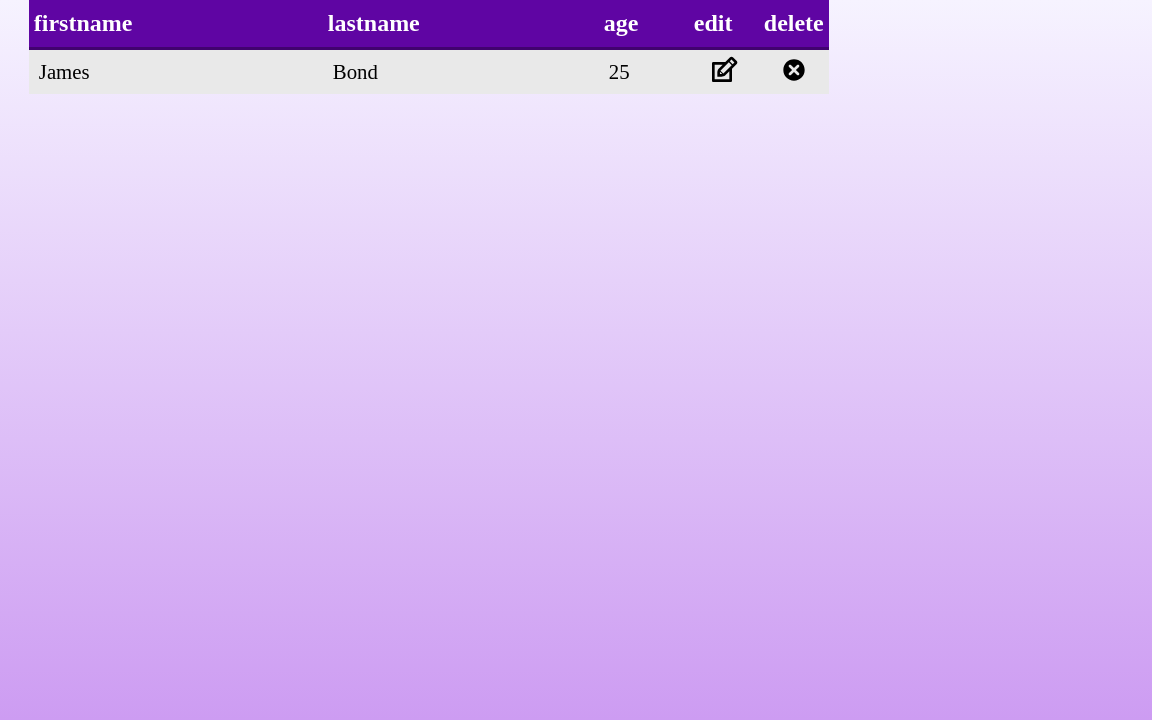
it: click edit button on row and check if inputs and save button are visible
Expected: the table with test id "table-person" is shown, [29, 0, 829, 94]
What coordinates should you click on to do the following:
click the button with test id "btn-edit"
I would click on:
 (724, 72)
Its box is [702, 53, 746, 90].
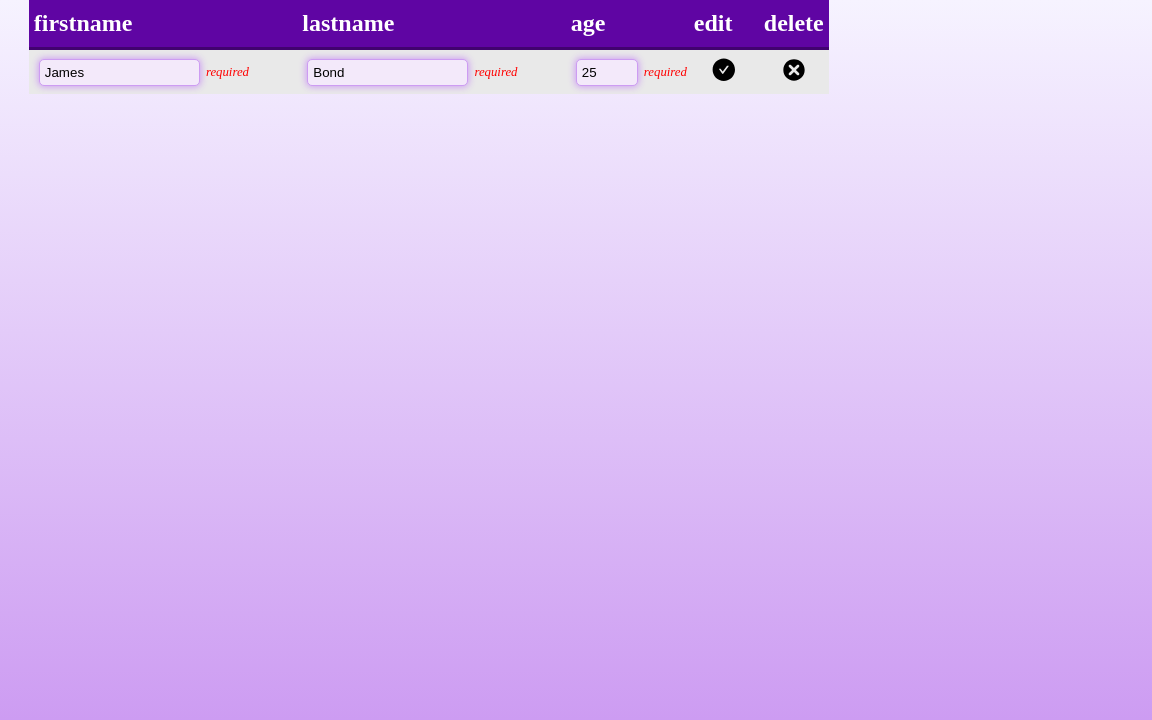
Expected: the button with test id "btn-save" is shown, [705, 56, 743, 87]
Expected: the number of fields with test id "input-component" is 3, [39, 58, 200, 86]; [307, 58, 468, 86]; [576, 58, 638, 86]
